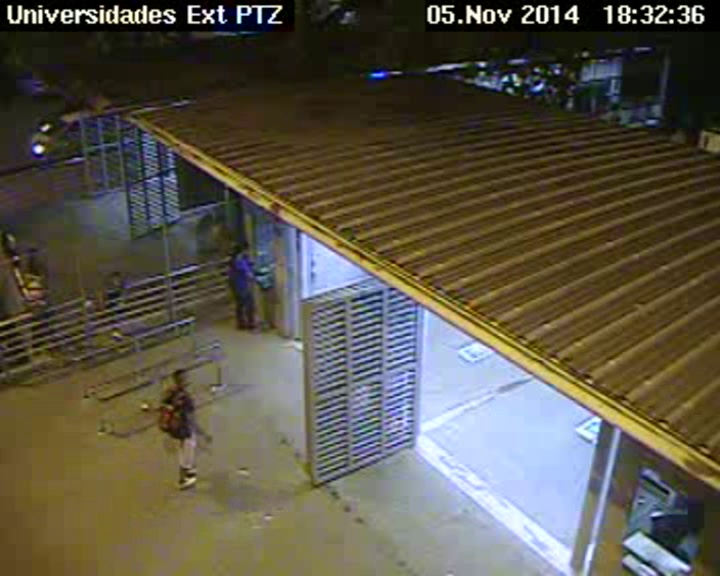person: (233, 237, 252, 257), (171, 368, 190, 388), (25, 250, 41, 267), (2, 232, 18, 248), (199, 213, 214, 227), (110, 273, 122, 286)
